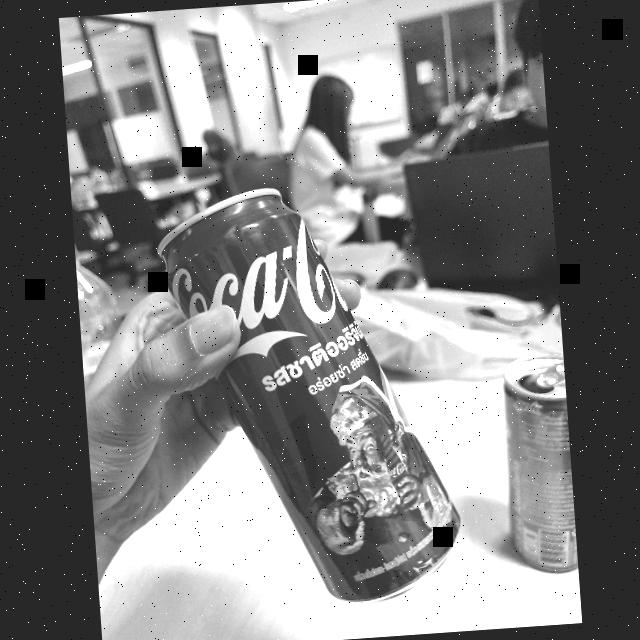can: (142, 174, 472, 618), (492, 352, 578, 581)
